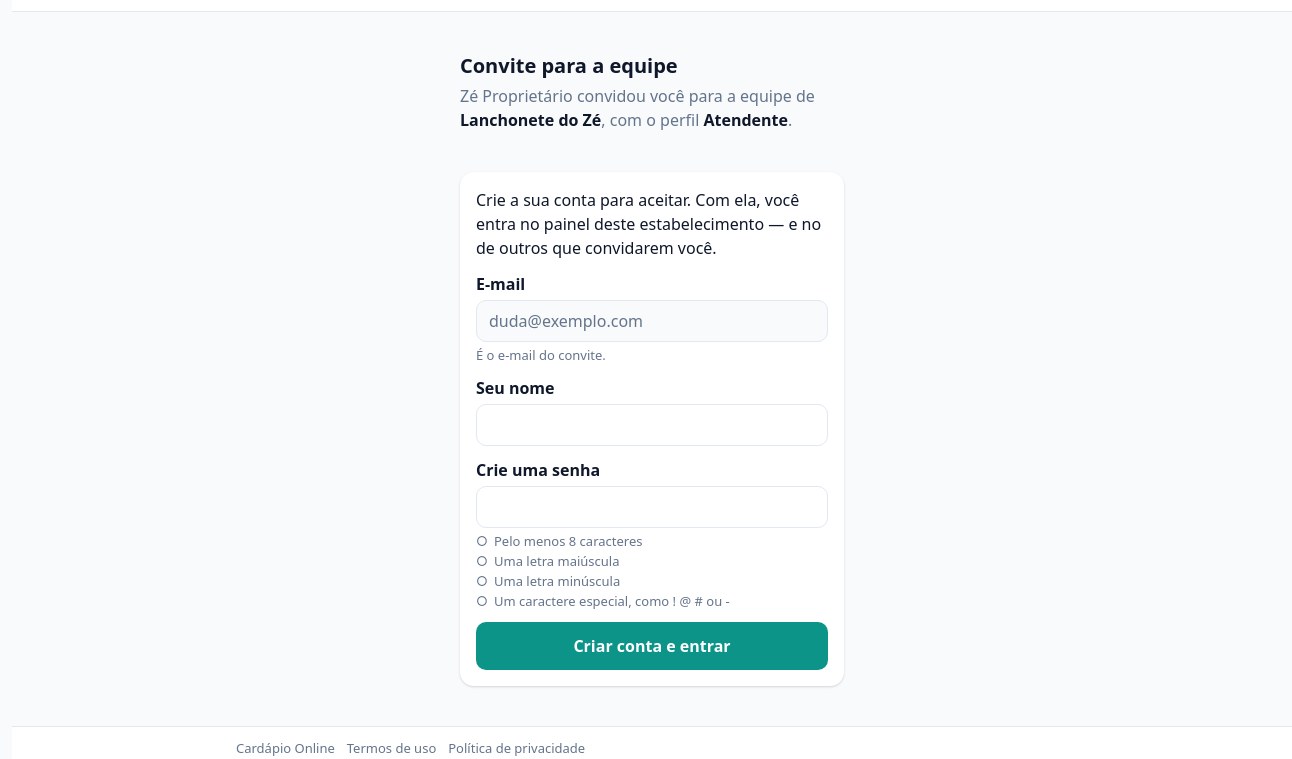
Scenario: o convite pelo link › sem conta: cria a conta com o nome e a senha, e entra no painel do estabelecimento
The width and height of the screenshot is (1292, 759).
Expected: the heading "Convite para a equipe" is shown, left=460, top=52, right=678, bottom=79
Expected: the field labelled "E-mail" holds "duda@exemplo.com", left=476, top=300, right=828, bottom=342
Type "  Duda  " into the field labelled "Seu nome". click: (652, 425)
box: left=476, top=404, right=828, bottom=446
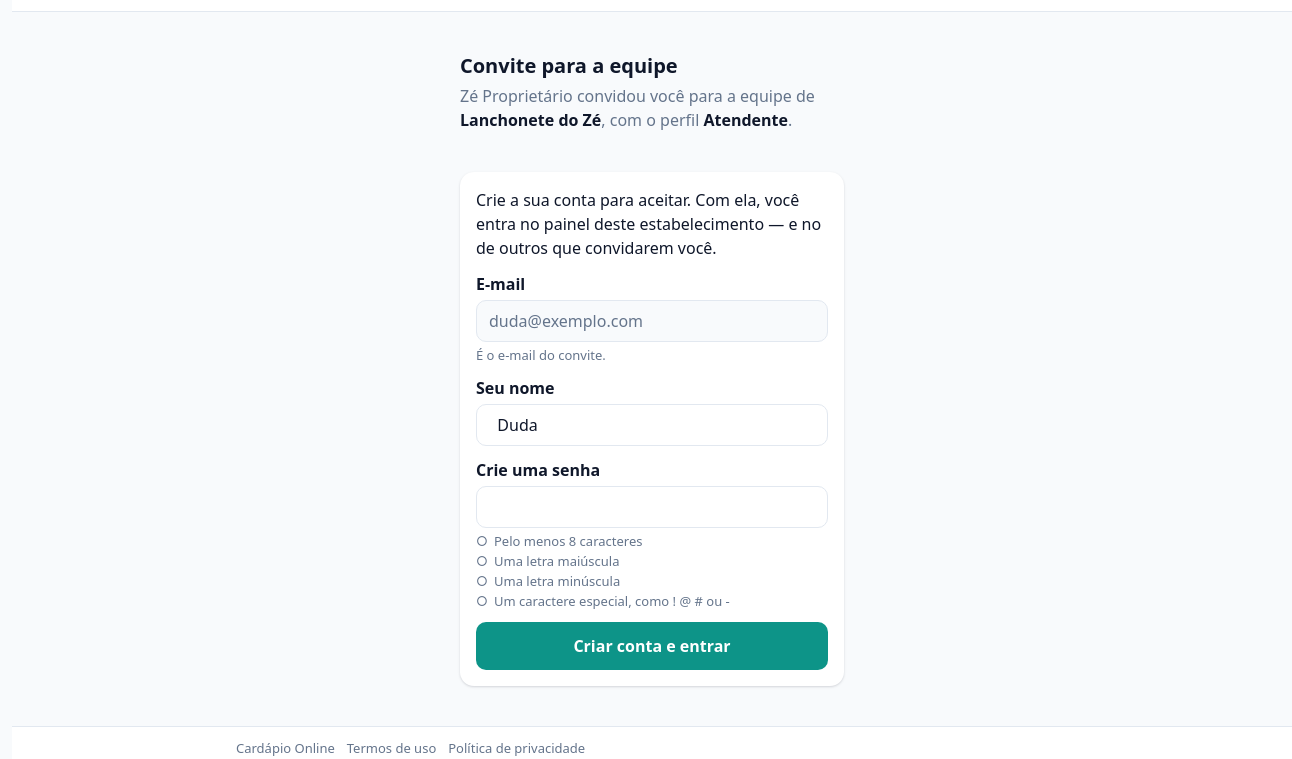
Type "Senha-da-duda-1" into the password field labelled "Crie uma senha". click: (652, 507)
box: left=476, top=486, right=828, bottom=528
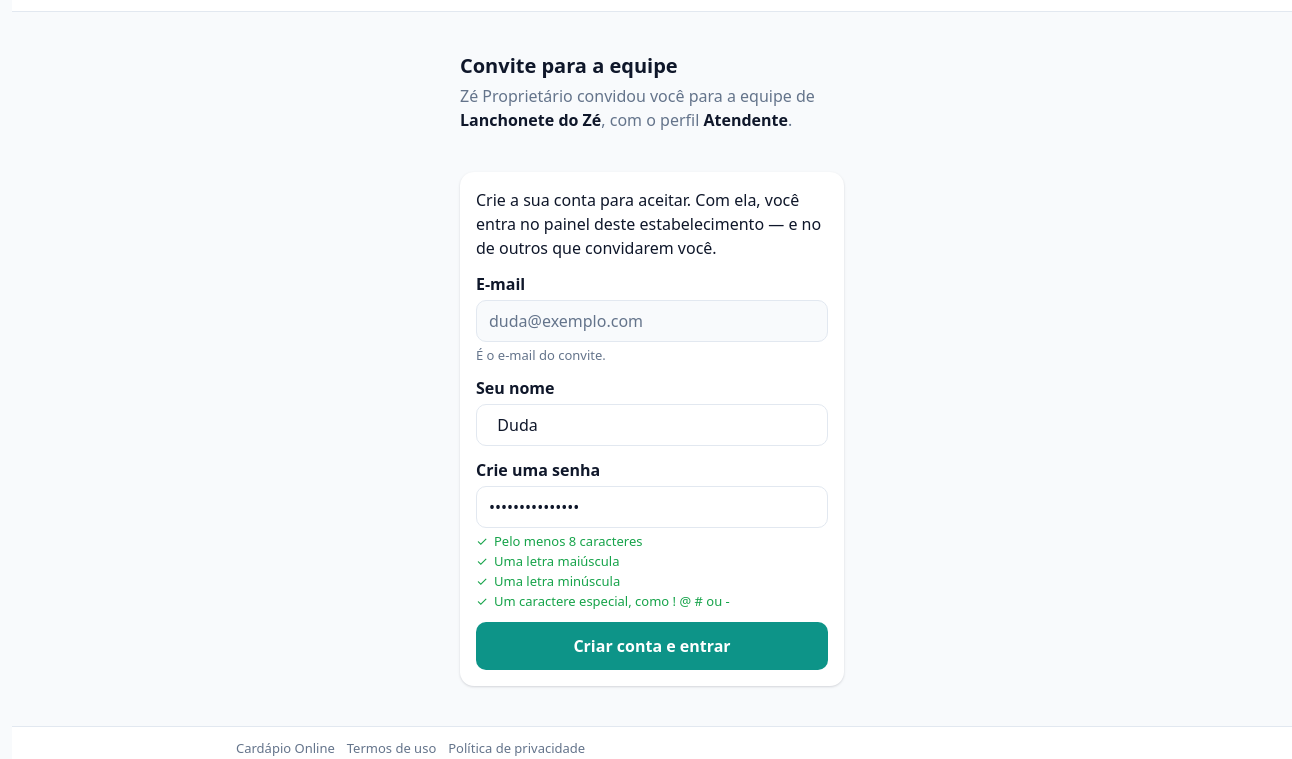
Click the button "Criar conta e entrar". click: (652, 646)
box: left=476, top=622, right=828, bottom=670
(page scrolled)
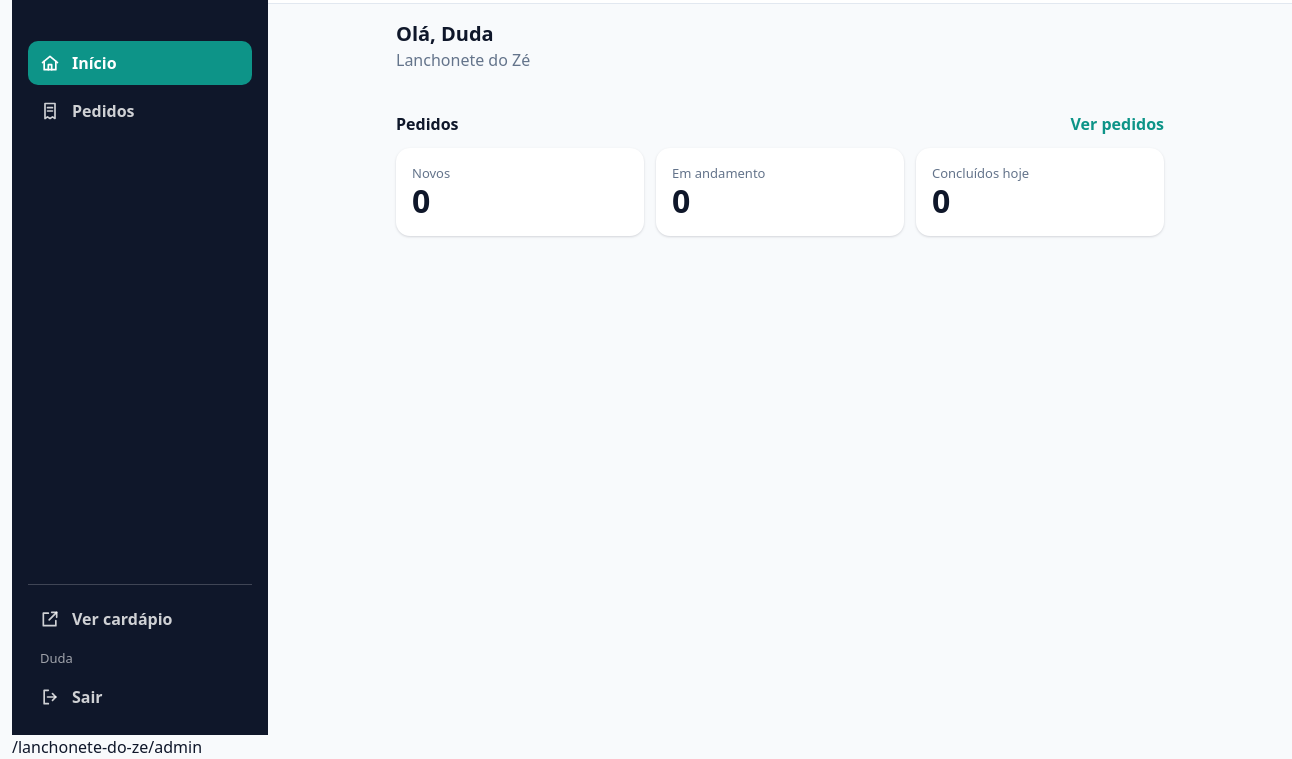
Expected: the text with test id "local" reads "/lanchonete-do-ze/admin", left=12, top=736, right=202, bottom=758
